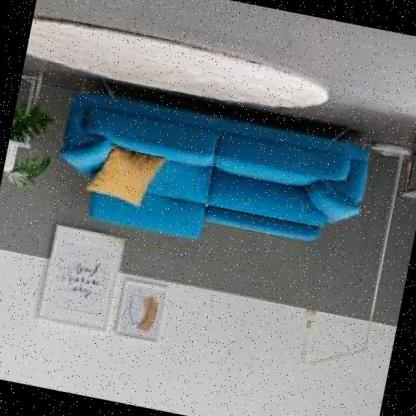Sofa: (38, 52, 393, 281)
